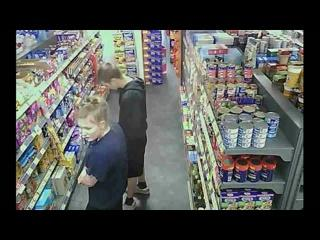Normal: (98, 61, 148, 208), (73, 96, 128, 209)
